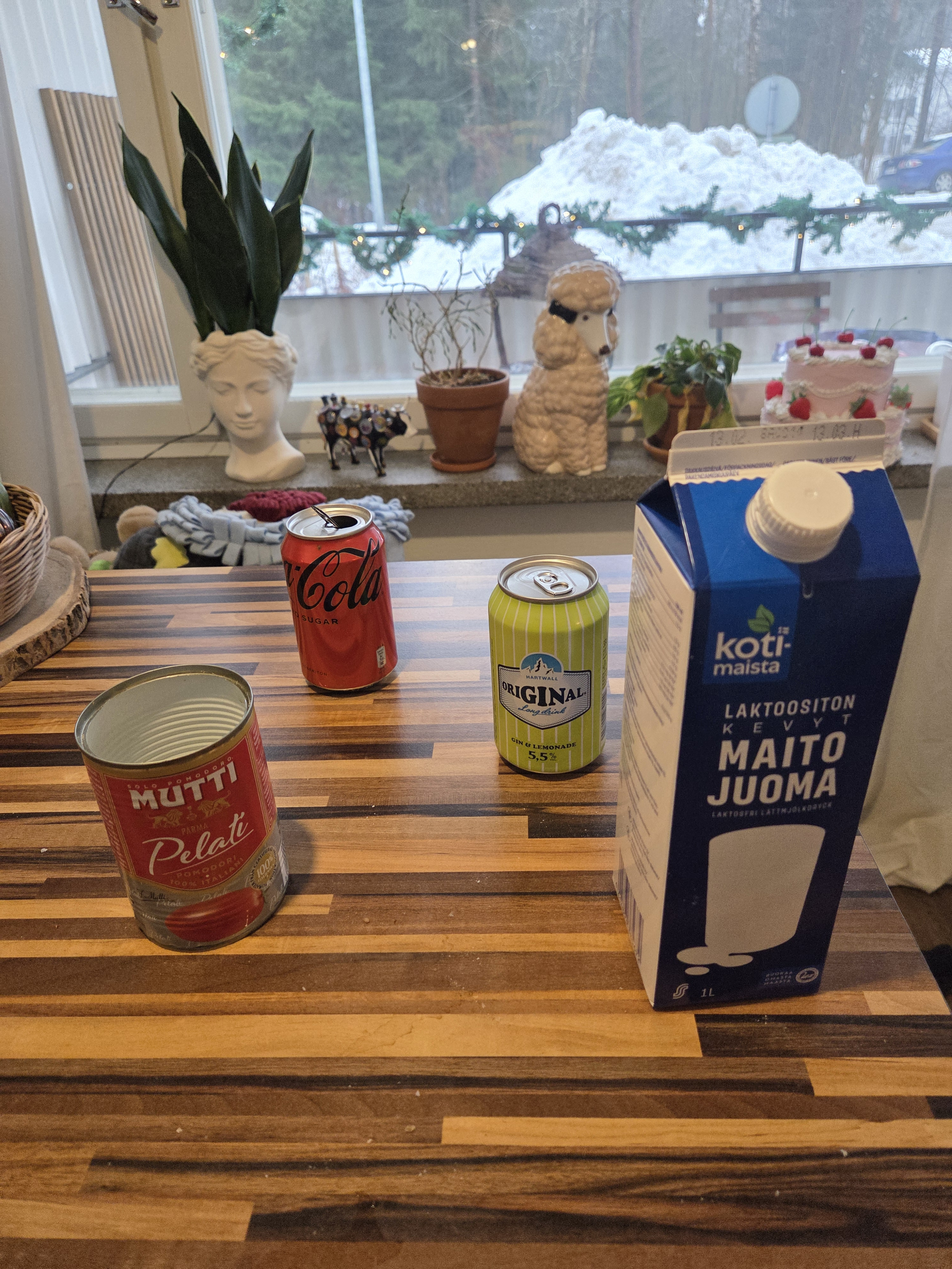Dryckeskartong: (612, 418, 922, 1010)
Konservburk: (74, 665, 290, 951)
Pantburk: (487, 554, 611, 775), (279, 502, 399, 692)
